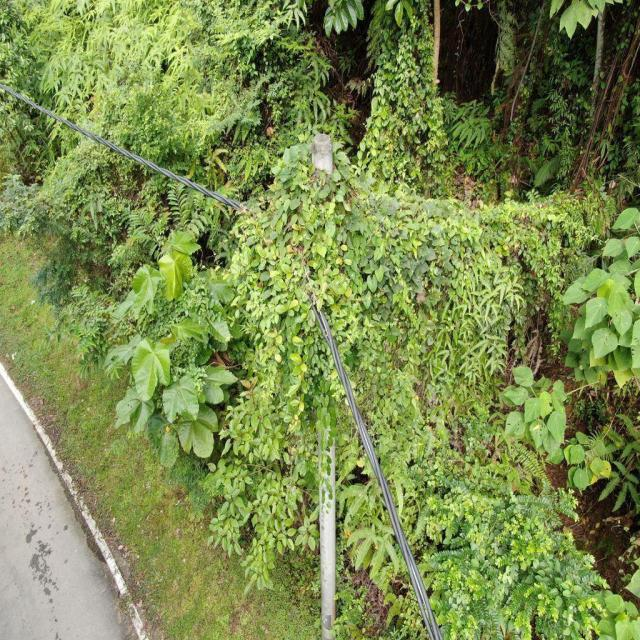critical vegetation: (246, 131, 596, 481)
